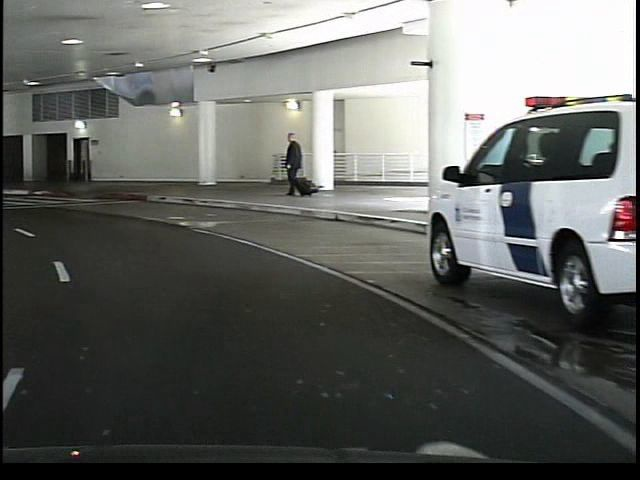person: (279, 128, 312, 203)
